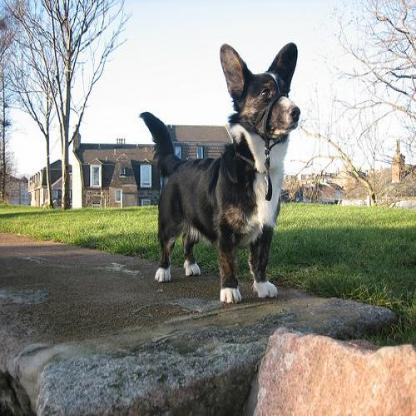Cardigan: (138, 41, 300, 303)
